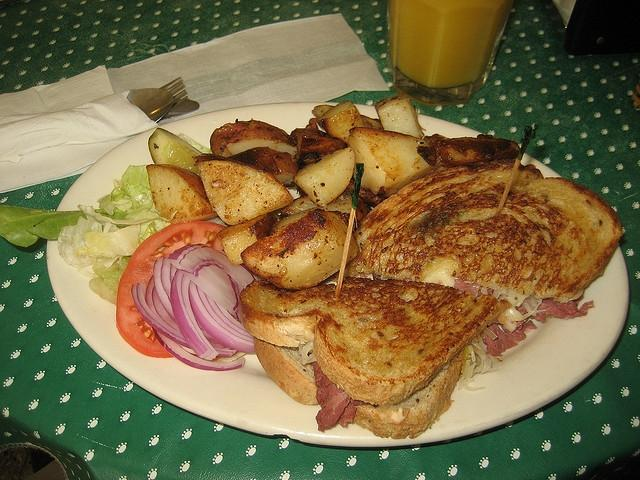lettuce: (1, 206, 87, 248), (57, 216, 121, 268), (98, 164, 152, 215), (85, 223, 141, 259), (95, 208, 161, 221)
onion: (152, 327, 245, 371), (132, 282, 192, 350), (170, 269, 212, 358), (179, 245, 255, 292), (152, 286, 215, 340), (196, 285, 254, 342), (179, 270, 238, 320), (152, 255, 178, 325), (176, 343, 198, 356)
potato: (240, 209, 358, 291), (192, 154, 293, 226), (348, 129, 440, 198), (146, 164, 218, 224), (210, 118, 298, 162), (293, 148, 355, 208), (270, 192, 352, 234), (217, 212, 278, 265), (228, 146, 299, 188), (435, 134, 520, 168), (290, 128, 348, 172), (374, 93, 425, 139), (318, 100, 364, 144), (312, 105, 384, 130), (280, 194, 319, 215), (417, 146, 437, 166)
tomato: (116, 220, 227, 358)
